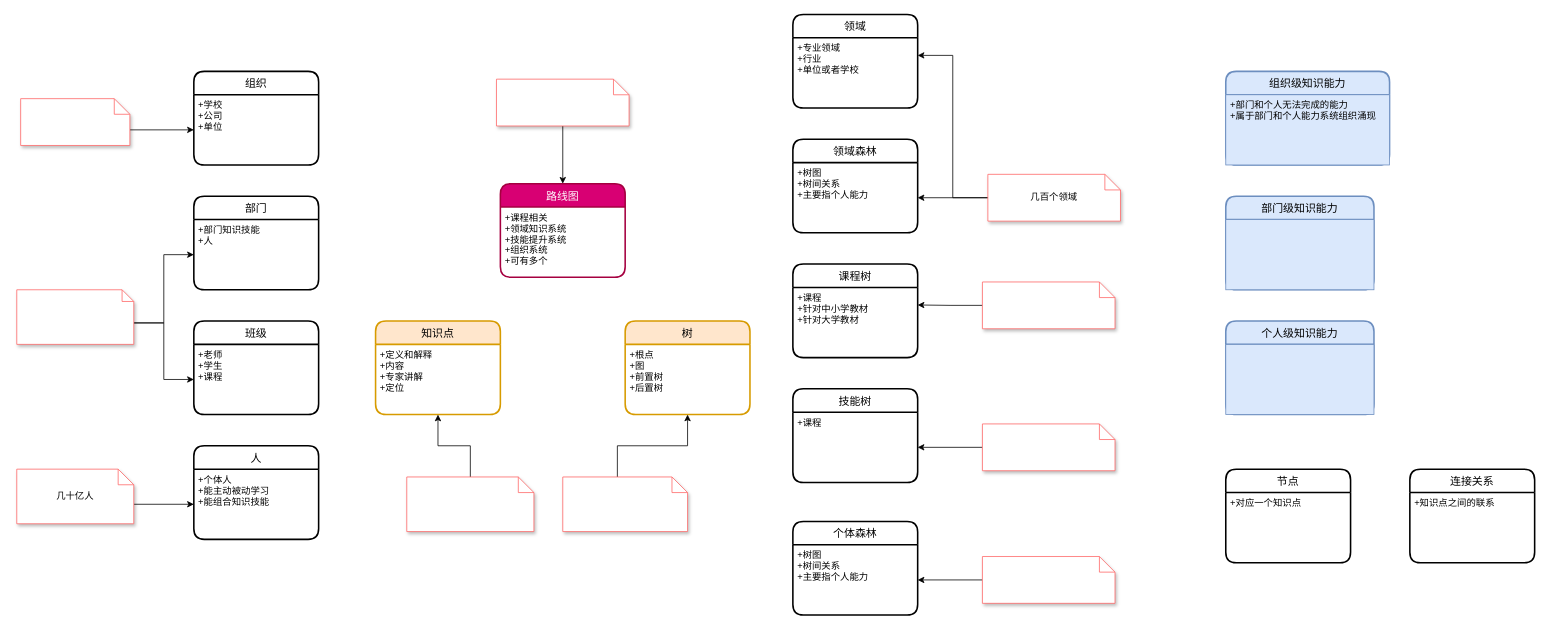
Image size: 1549x629. Some labels were removed from this diagram. Each missing label, with the centre of its shape:
"+个人无法完成的能力 +属于部门组织能力涌现" belongs at (1299,254).
"+多知识点系统涌现" belongs at (1299,379).
"几万个技能树" belongs at (1049,448).
"几万个课程树" belongs at (1049,306).
"几十万个组织" belongs at (76,123).
"几十万棵树" belongs at (625,505).
"几十个部门班级" belongs at (75,318).
"几百万的知识点" belongs at (471,505).
"几百亿个技能树" belongs at (1049,581).
"几百亿亿以上个路线图 交互核心" belongs at (563,103).
